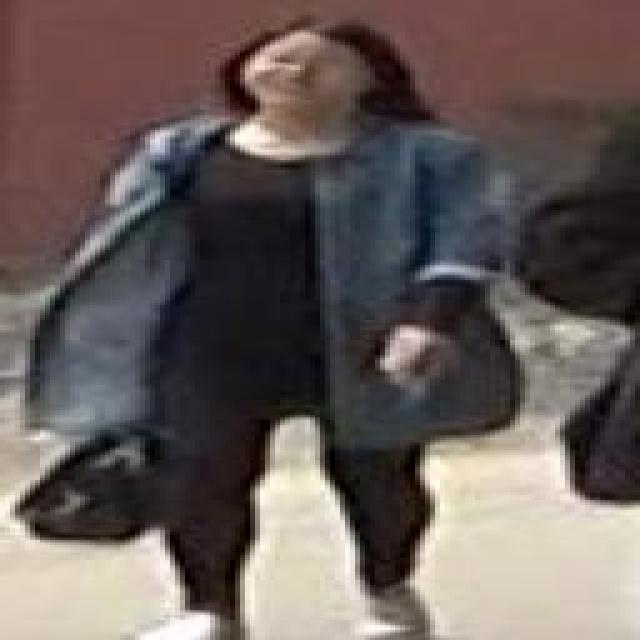adult: (43, 13, 525, 621)
